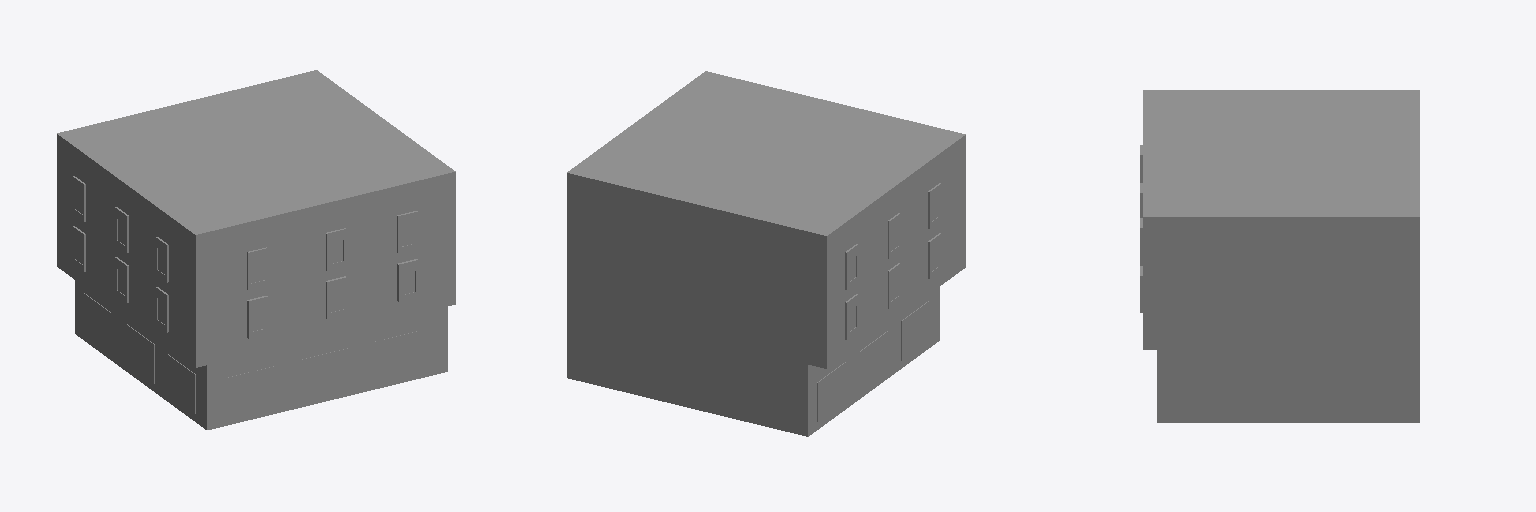
The model's file is edificio666.obj.
The picture shows the model from 3 angles: view 1: azimuth 30°, elevation 25°; view 2: azimuth 150°, elevation 25°; view 3: azimuth 270°, elevation 25°; orthographic projection.
Parts seen in each view (by area): view 1: Cubo.008_Cubo.051; view 2: Cubo.008_Cubo.051; view 3: Cubo.008_Cubo.051.
Part boxes in pixels (x1,y1,x2,y2): Cubo.008_Cubo.051: (57, 70, 455, 429); Cubo.008_Cubo.051: (567, 71, 965, 436); Cubo.008_Cubo.051: (1140, 90, 1419, 422).
Size of the model in its own units: 14.67 by 10.99 by 13.61.